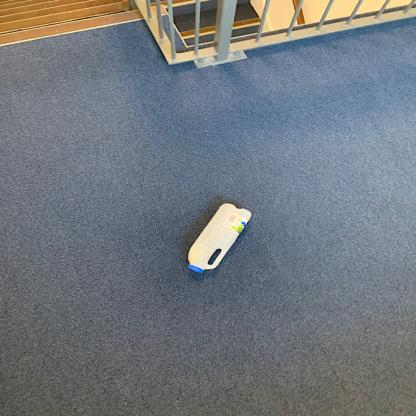trash: (187, 201, 254, 277)
